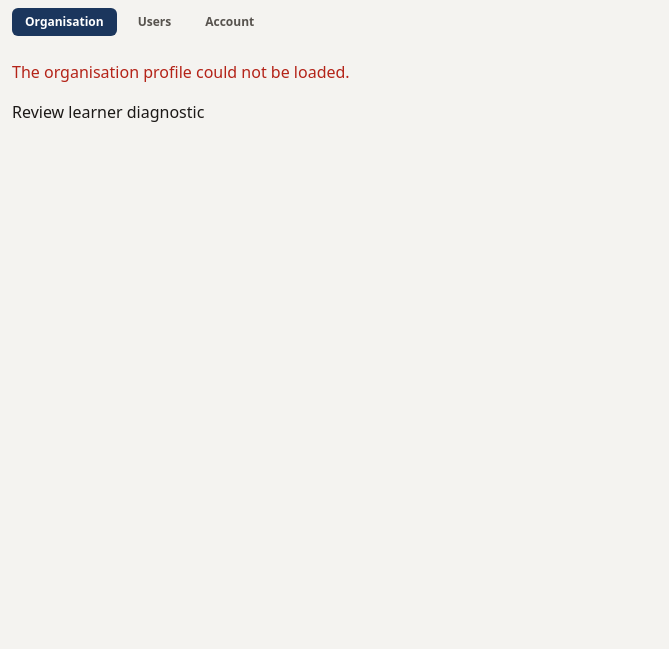
Settings users tab › lists members and shows the invite token once
The image size is (669, 649).
Click the button "Users": [154, 22] box [125,8,184,36]
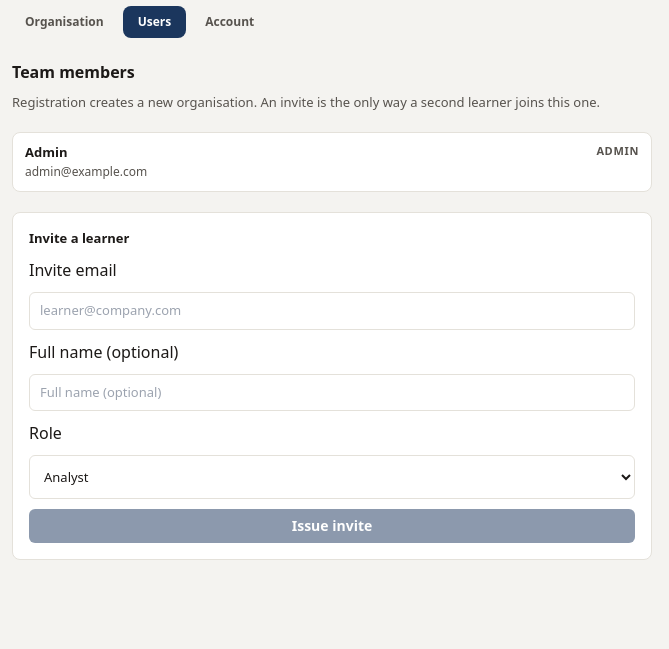
Expected: the text "admin@example.com" is shown, [25,163,147,181]
In the field labelled "Invite email": [332, 311] box [29,292,635,330], type "learner@example.com"
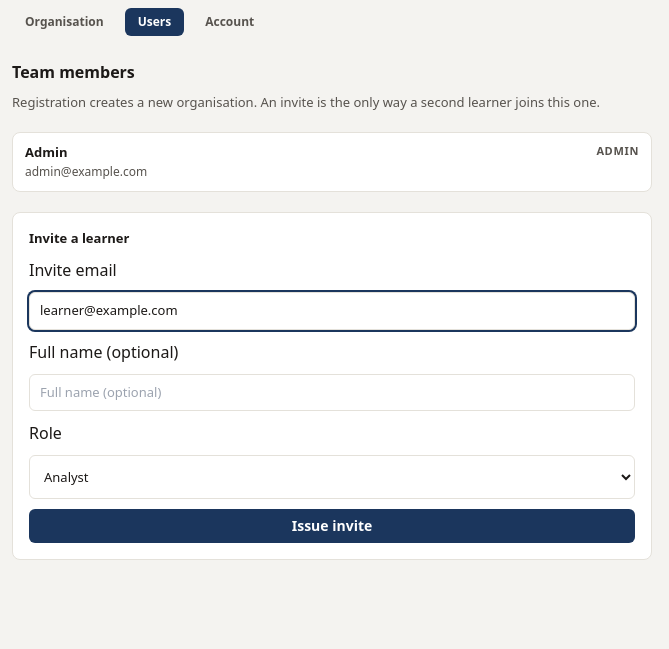
Click the button "Issue invite": [332, 526] box [29,509,635,543]
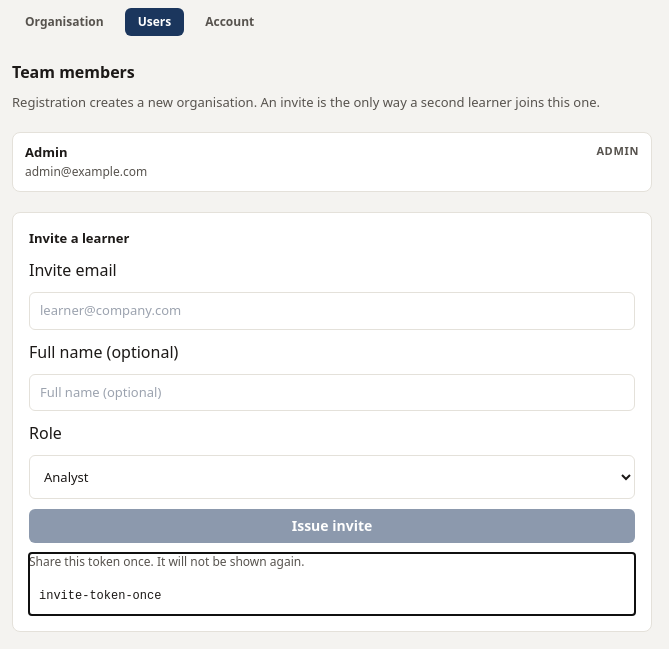
Expected: the text with test id "invite-token" reads "invite-token-once", [39,589,161,603]
